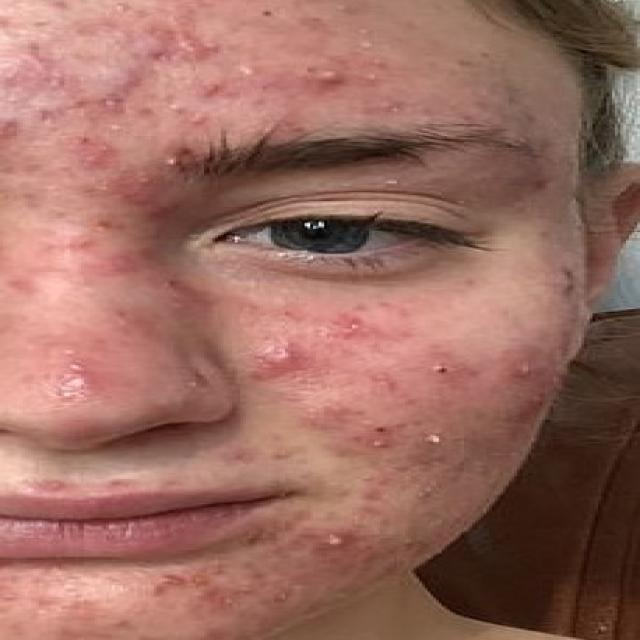acne: (13, 10, 636, 627)
